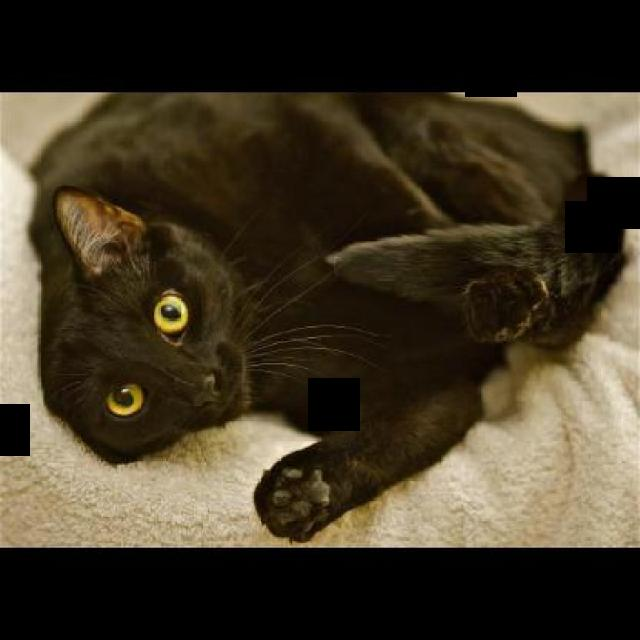unauthorized: (26, 91, 626, 543)
